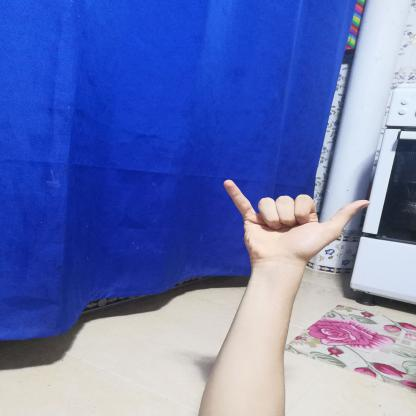YA: (211, 171, 386, 278)
